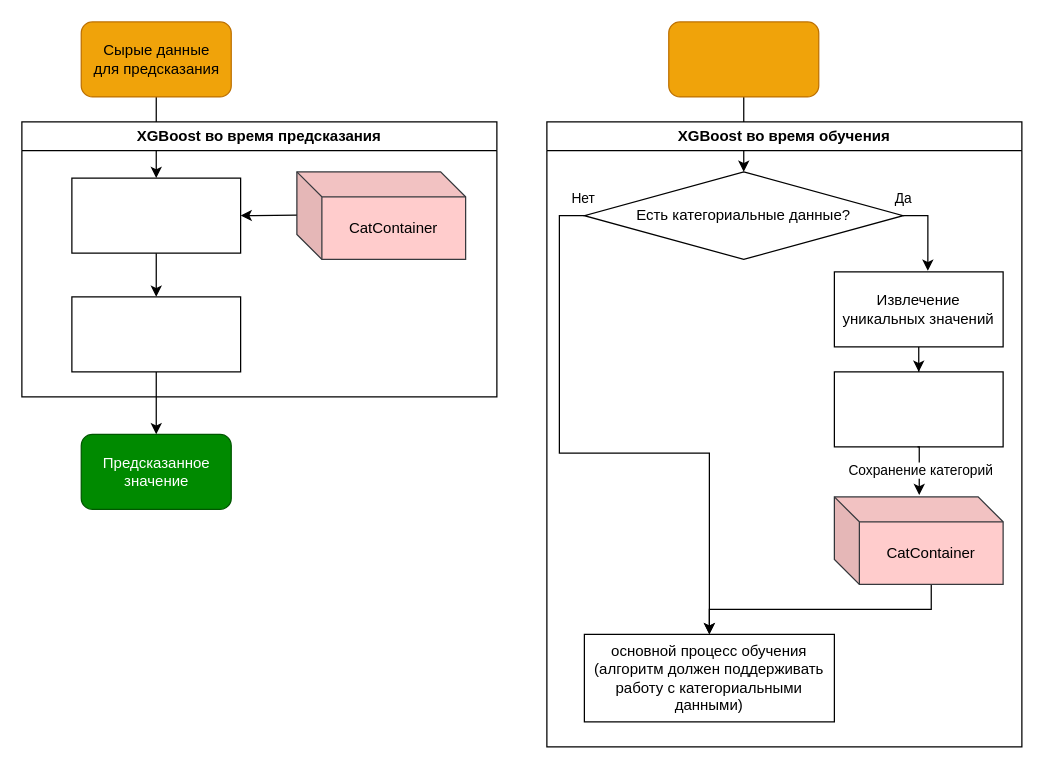
Image size: 1044x769. Some labels were removed from this diagram. The centre of each missing label's shape, as x and y in pixels:
Автоматический ре-кодер: (156,215)
Проверка корректности категорий: (918,409)
Процесс предсказания: (156,334)
Сырые данные для обучения: (743,59)
